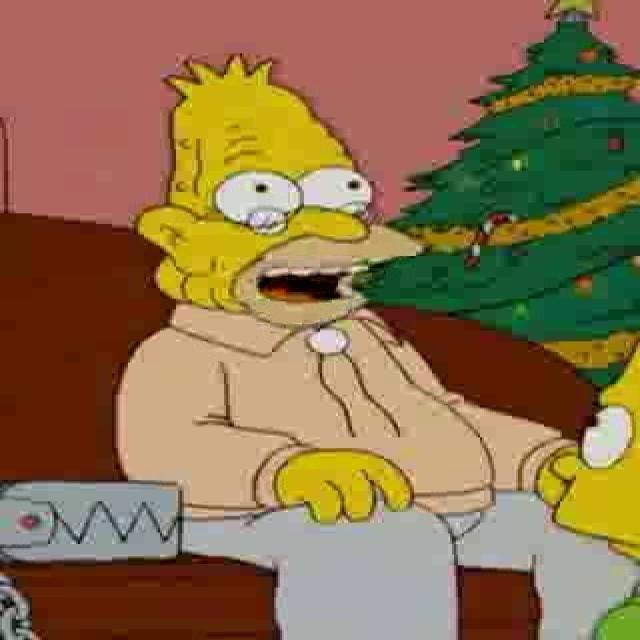Abraham Grampa Simpson: (134, 51, 430, 330)
